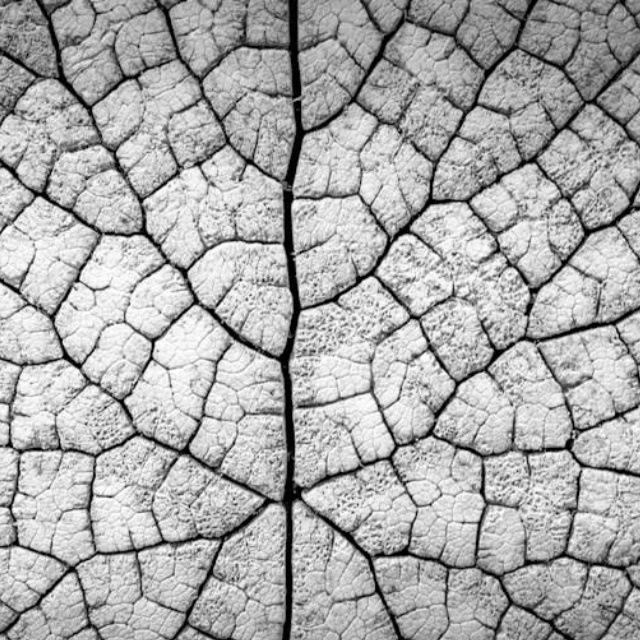细微裂纹: (0, 0, 167, 228)
